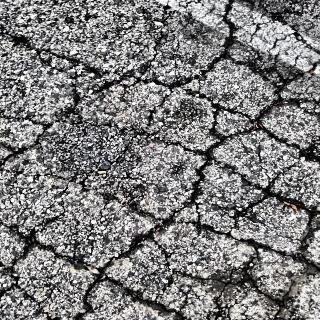alligator-crack: (6, 5, 312, 318)
